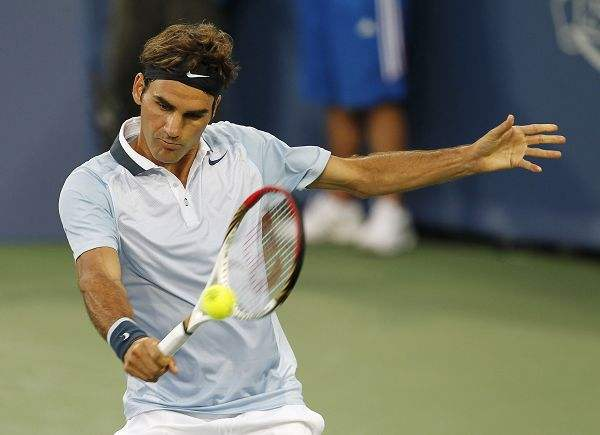no-phone: (469, 107, 570, 178)
